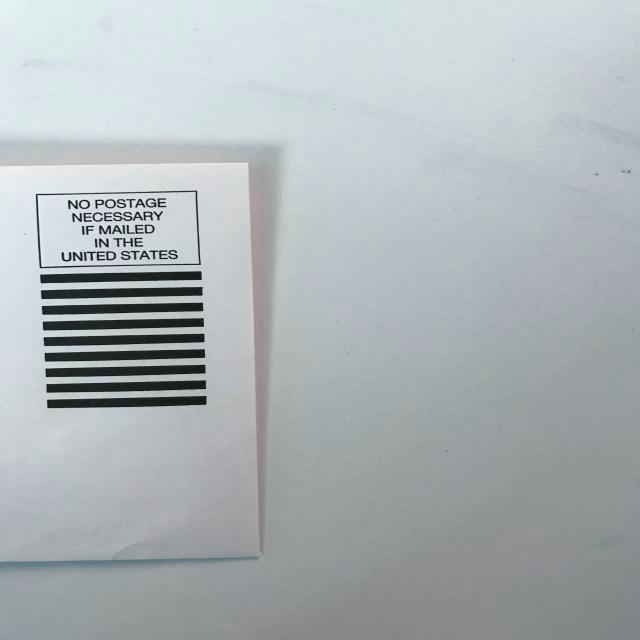paper: (0, 149, 340, 578)
